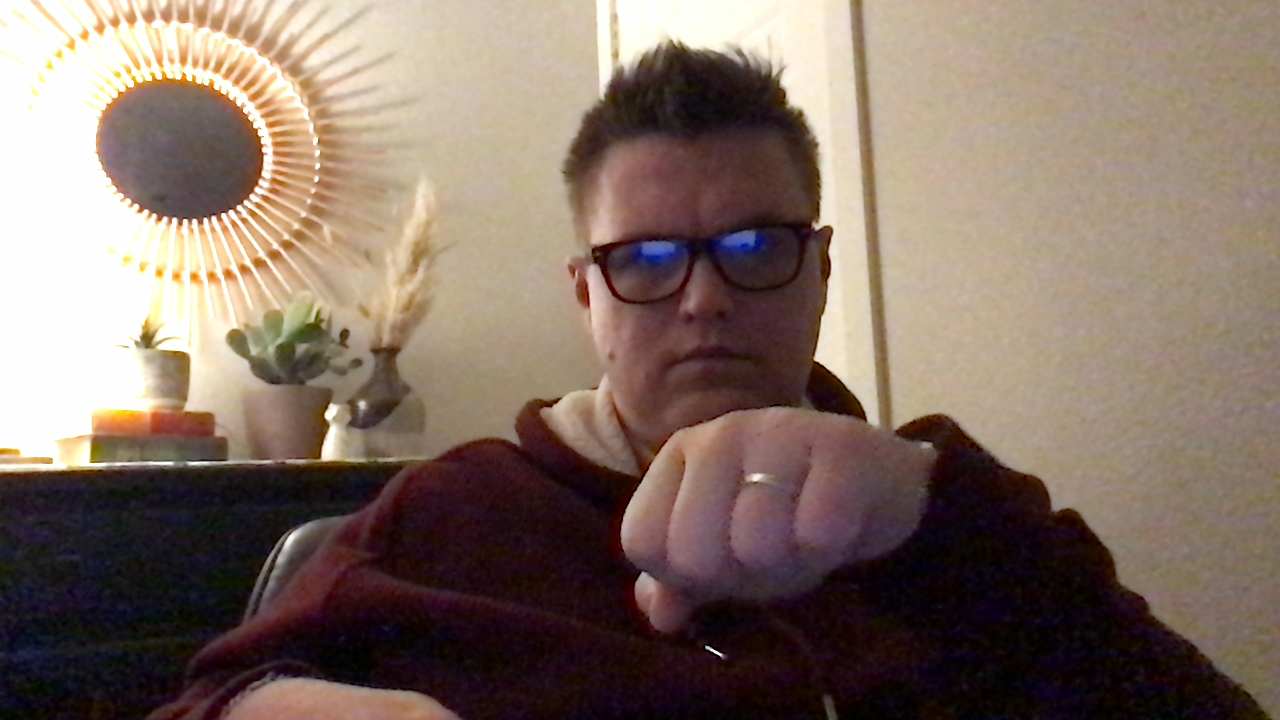yes: (614, 401, 942, 634)
